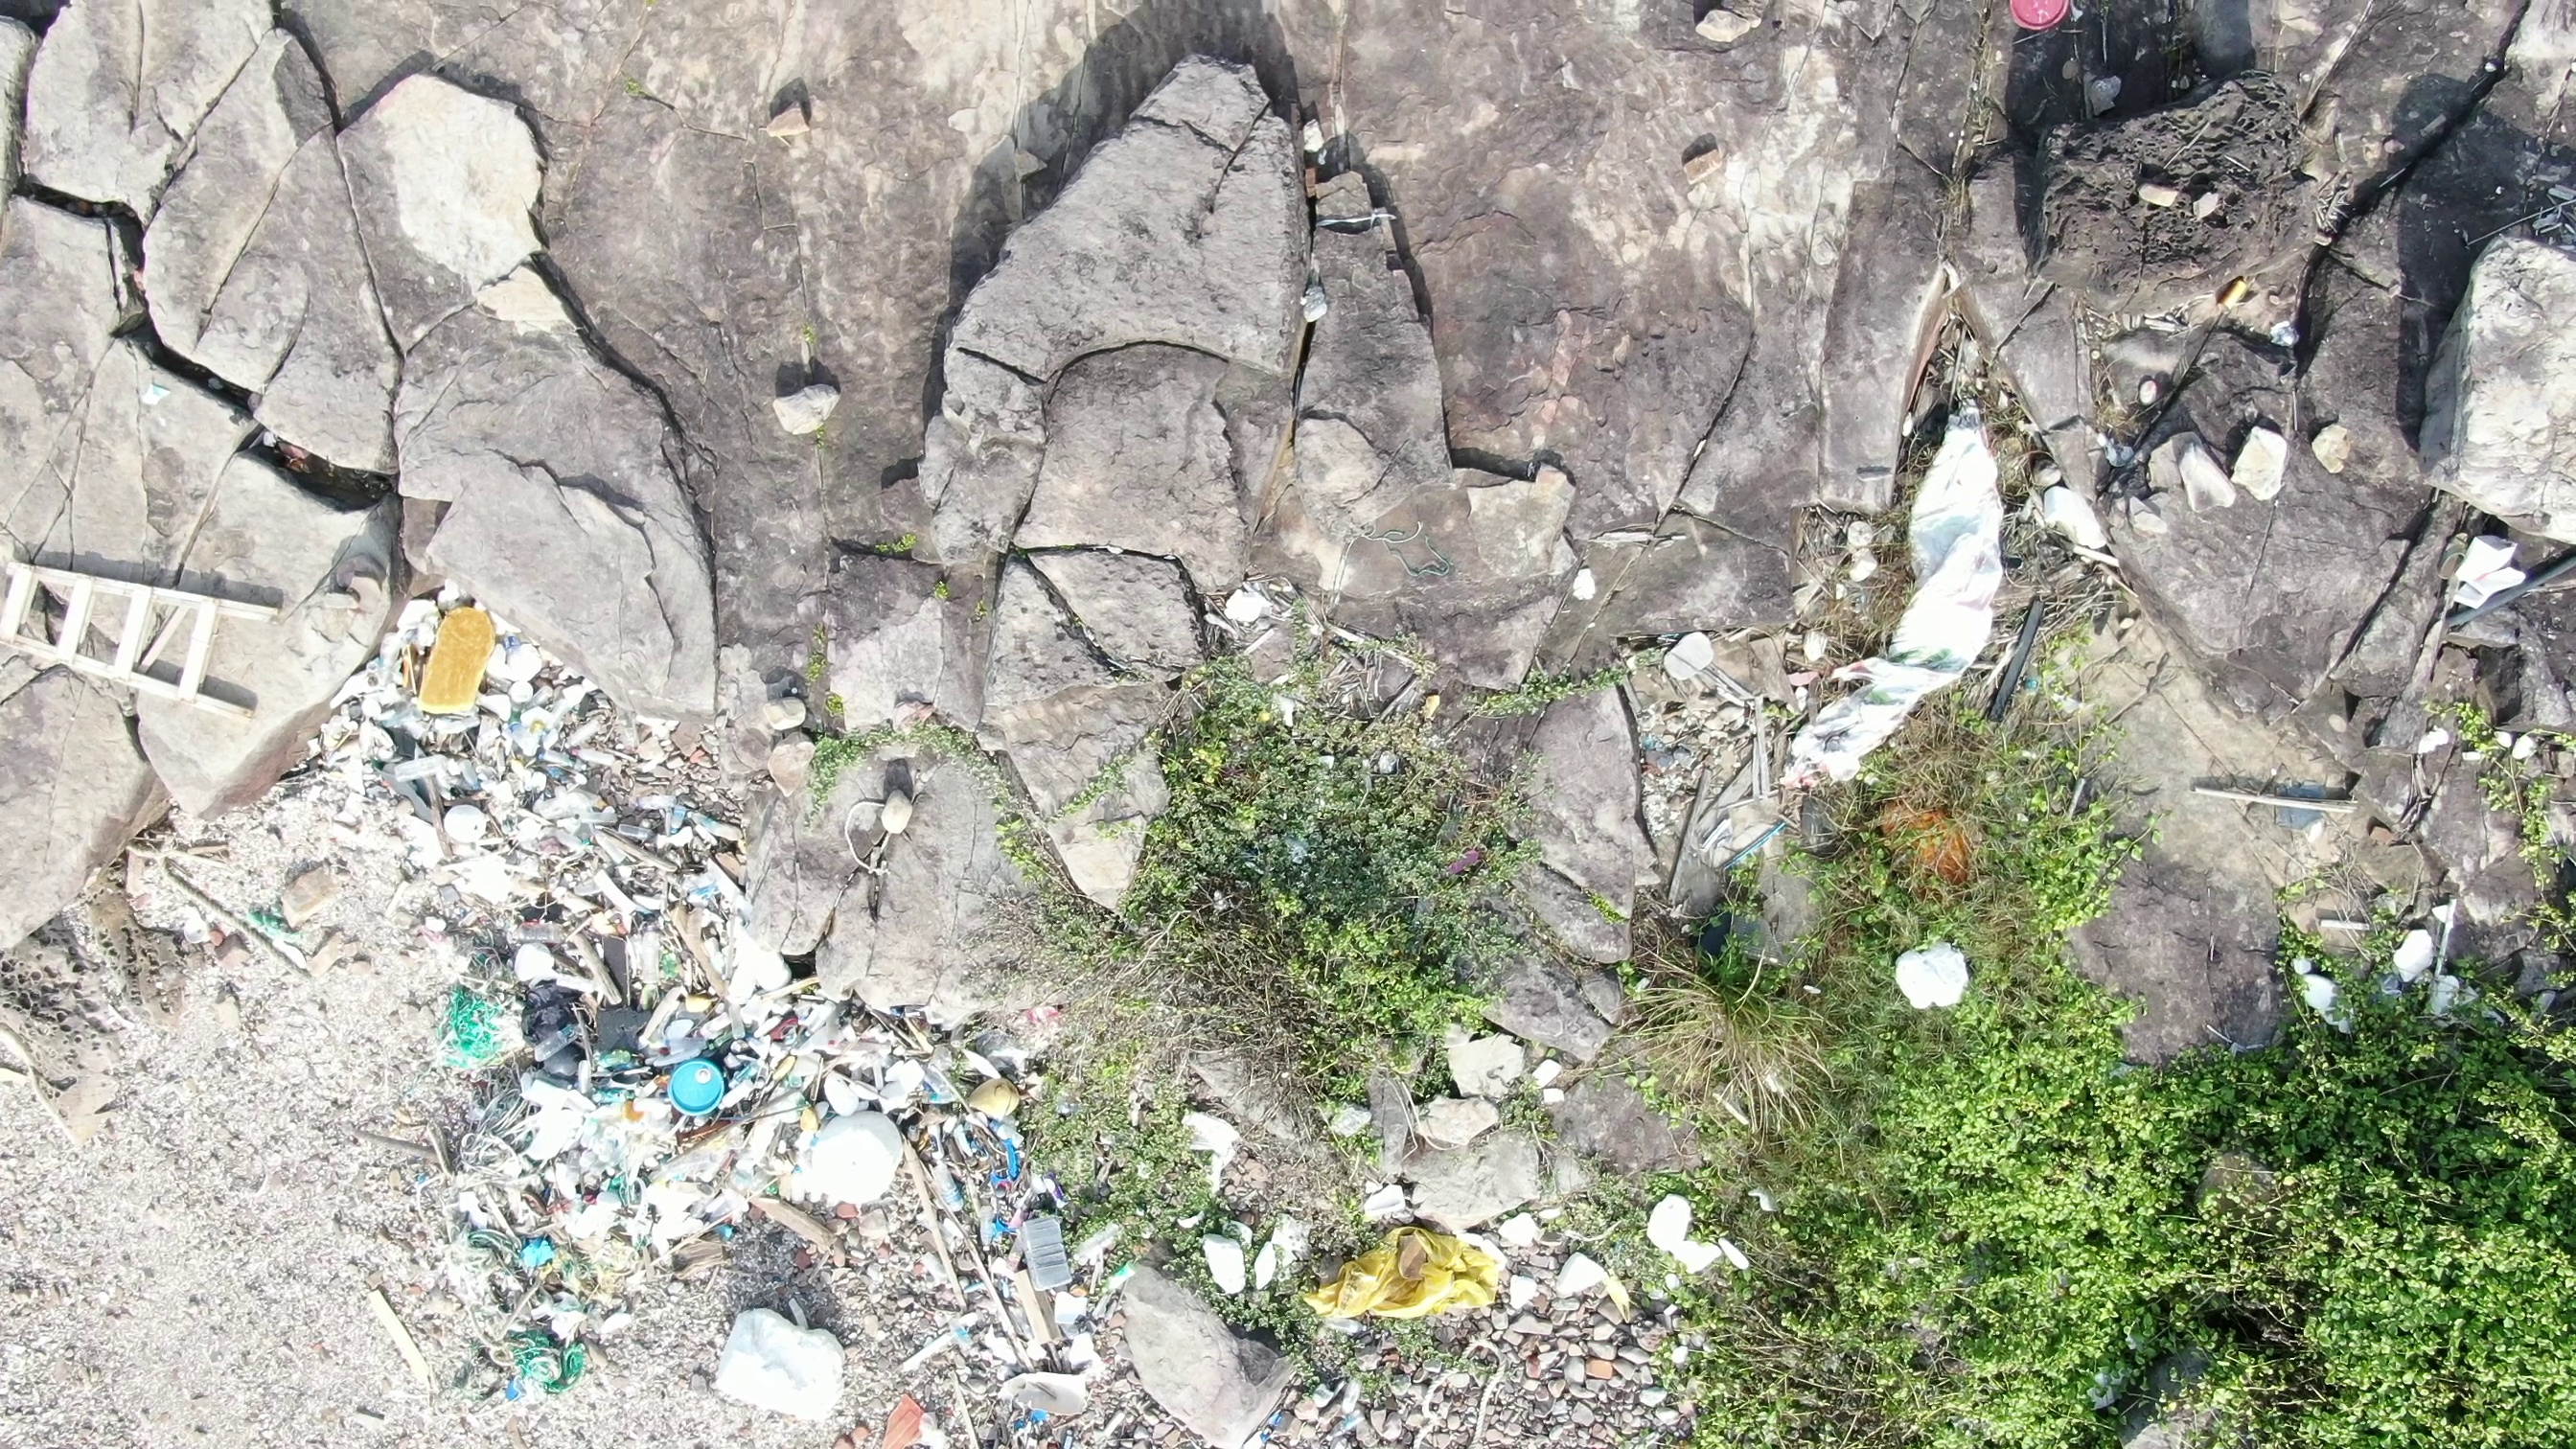garbage: (1775, 386, 2035, 796), (433, 970, 763, 1129), (2, 550, 283, 718), (462, 1210, 600, 1408), (1286, 1207, 1520, 1323), (964, 1086, 1081, 1304), (418, 584, 501, 734), (1877, 931, 1989, 1021), (2012, 2, 2107, 46)
